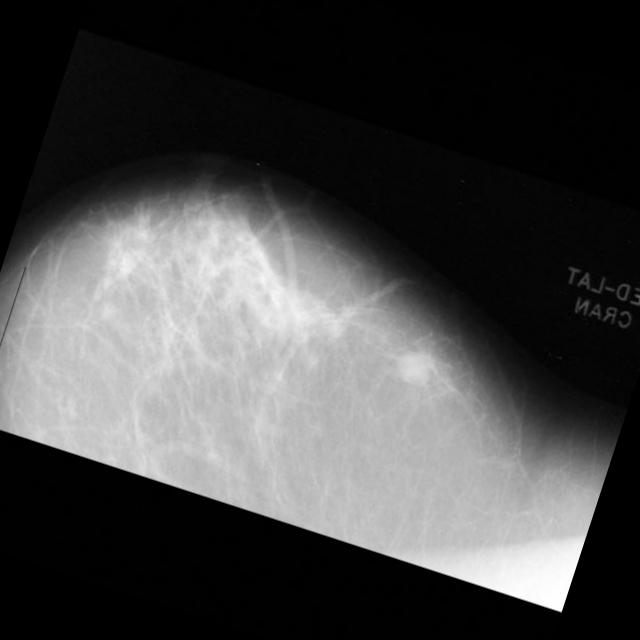CIRC: (392, 345, 438, 391)
